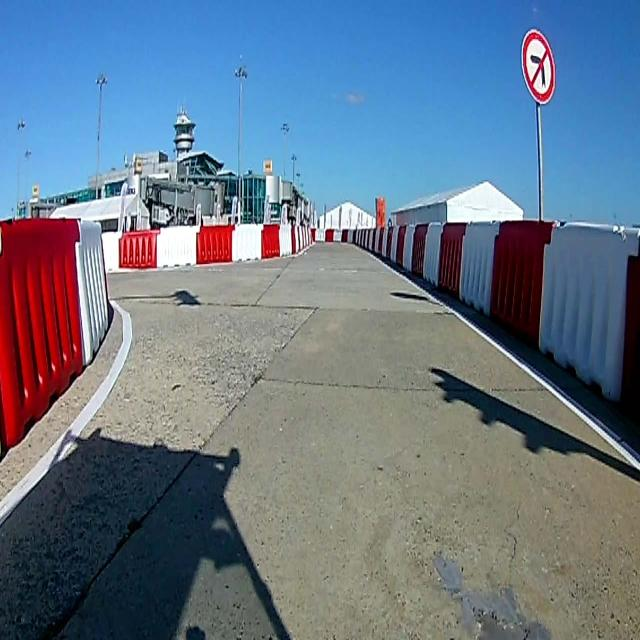soladonulmez: (520, 29, 558, 103)
